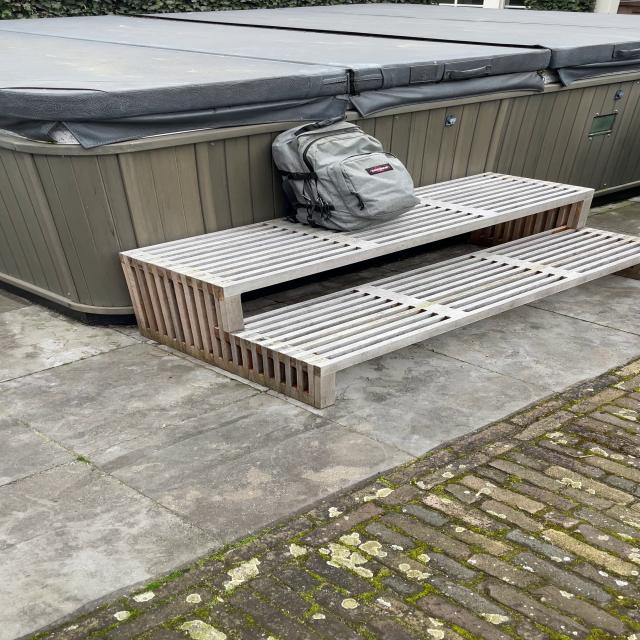backpack: (264, 116, 426, 231)
